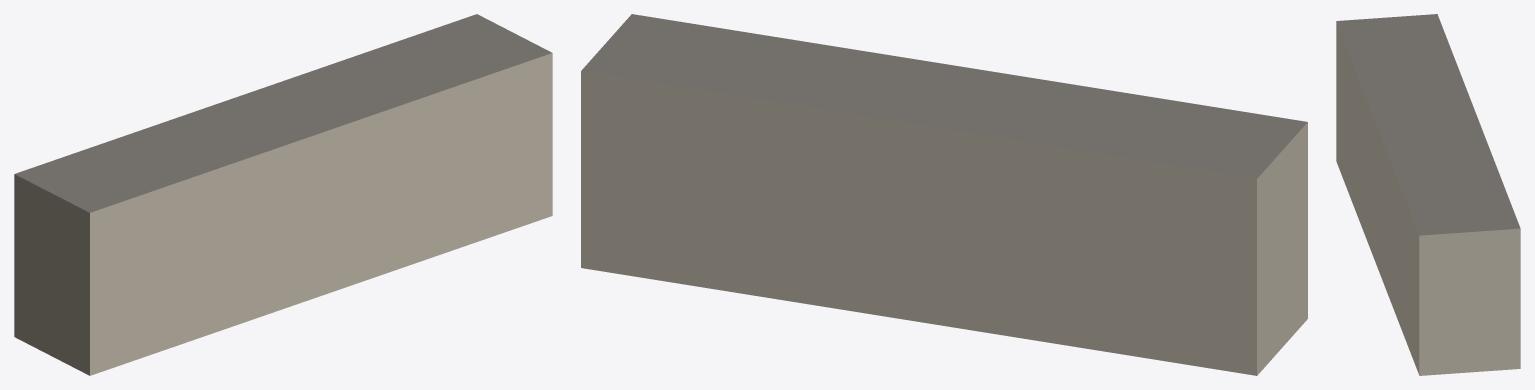
3 views of the same model, side by side, from view 1: azimuth 30°, elevation 25°; view 2: azimuth 150°, elevation 25°; view 3: azimuth 270°, elevation 25° (orthographic). The views are drawn at different scales.
Parts seen in each view (by area): view 1: HP-w859488685; view 2: HP-w859488685; view 3: HP-w859488685.
Part boxes in pixels (bbox=[...]): HP-w859488685: bbox=[14, 14, 552, 375]; HP-w859488685: bbox=[581, 14, 1307, 375]; HP-w859488685: bbox=[1336, 14, 1520, 375].
Bounding box in the file's own units: 60.98 × 18 × 21.43.
